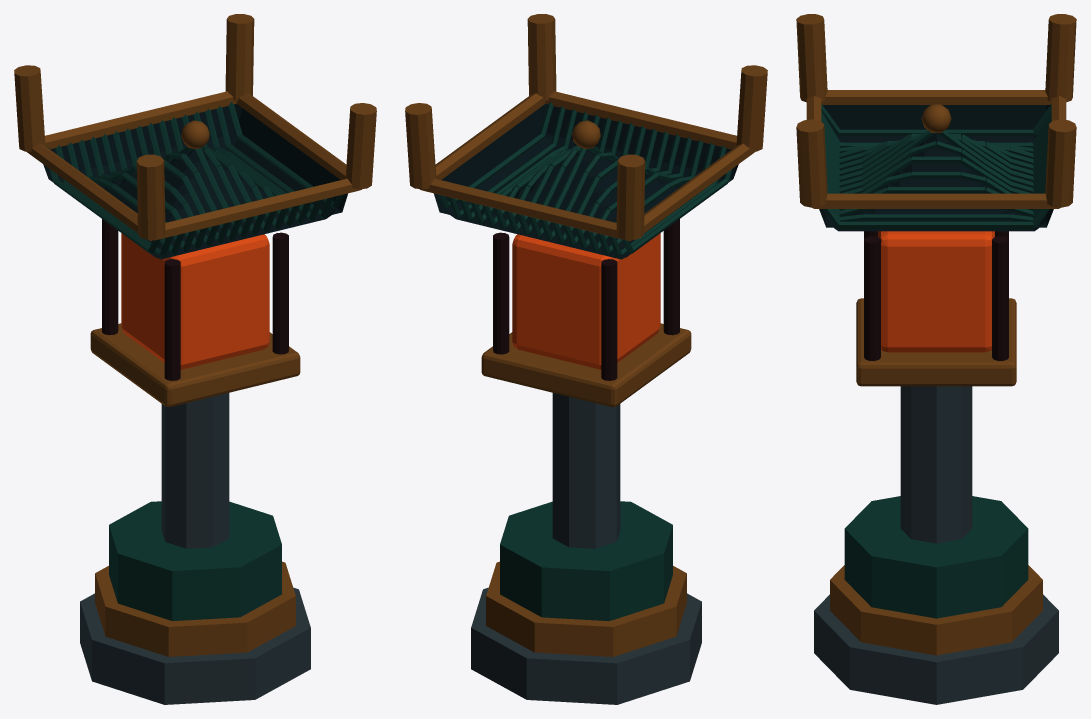
The model's file is SM_JA_Lantern.fbx.
3 renders of one model, left to right at view 1: azimuth 30°, elevation 25°; view 2: azimuth 150°, elevation 25°; view 3: azimuth 270°, elevation 25°, orthographic. The views are drawn at different scales.
Visible parts, largest first — view 1: SM_JA_Lantern; view 2: SM_JA_Lantern; view 3: SM_JA_Lantern.
Part boxes in pixels (left/top/right/bottom): SM_JA_Lantern: left=14, top=14, right=376, bottom=704; SM_JA_Lantern: left=405, top=14, right=767, bottom=704; SM_JA_Lantern: left=796, top=14, right=1076, bottom=704.
Bounding box in the file's own units: 1.49 × 1.49 × 3.4.
